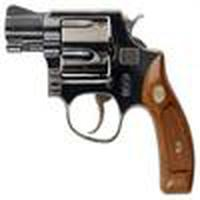gun: (6, 3, 199, 196)
